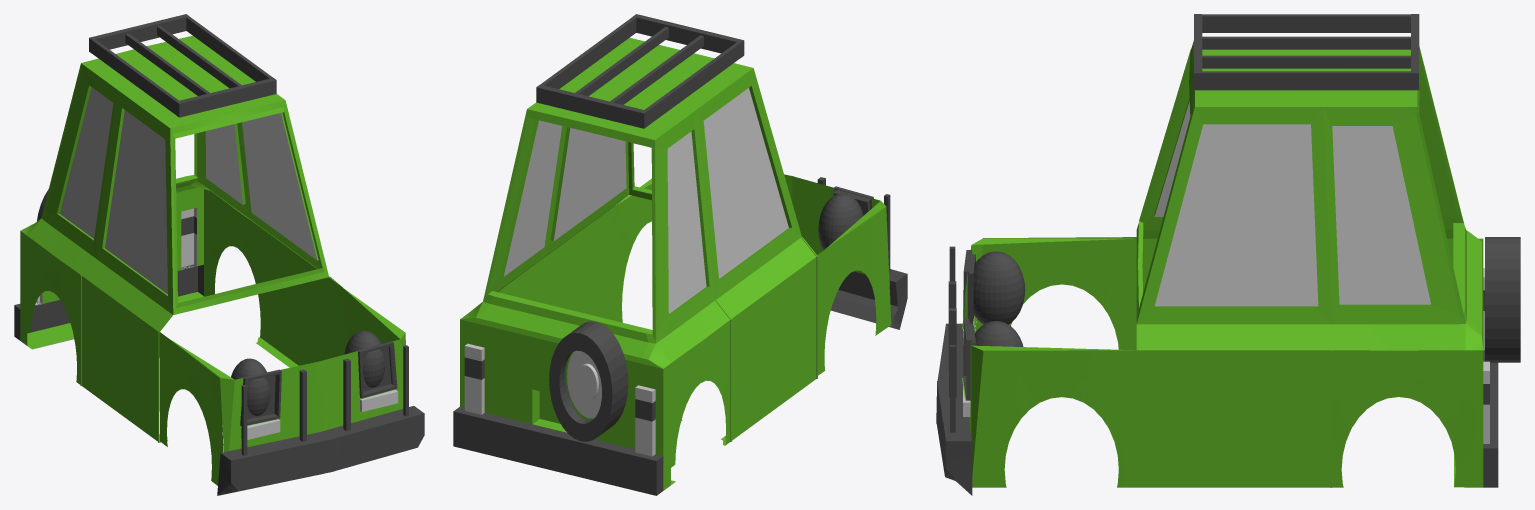
File: carrocuerpo.obj
3 renders of one model, left to right at view 1: azimuth 30°, elevation 25°; view 2: azimuth 150°, elevation 25°; view 3: azimuth 270°, elevation 25°, orthographic. The views are drawn at different scales.
Visible parts, largest first — view 1: Body_Cube, FrontLeftWindow_Cube.001, Cube.002_Cube.029, RoofRack.025_Cube.025, Cube.016_Cube.018, Cube.004, Cube.022_Cube.024, Sphere.001, Sphere, Cube.021_Cube.023, Cube.013_Cube.015, Cube.010_Cube.011 (+3 smaller); view 2: Body_Cube, FrontLeftWindow_Cube.001, RoofRack.025_Cube.025, Cube.016_Cube.018, Cube.022_Cube.024, Cylinder.007_Cylinder.010, Cube.002_Cube.029, Cylinder.008_Cylinder.011, Sphere.001, Cube.021_Cube.023, Cube.020_Cube.022, Cube.019_Cube.021; view 3: Body_Cube, FrontLeftWindow_Cube.001, RoofRack.025_Cube.025, Cube.016_Cube.018, Cylinder.007_Cylinder.010, Cube.002_Cube.029, Sphere.001, Cube.022_Cube.024, Cube.004, Sphere.
Boxes of the visible parts, box(x1,y1,x2,y2) form: Body_Cube: box(20, 35, 405, 485); FrontLeftWindow_Cube.001: box(105, 110, 317, 294); Cube.002_Cube.029: box(217, 406, 424, 495); RoofRack.025_Cube.025: box(89, 14, 276, 117); Cube.016_Cube.018: box(60, 87, 242, 238); Cube.004: box(240, 341, 397, 426); Cube.022_Cube.024: box(14, 264, 203, 340); Sphere.001: box(231, 358, 270, 415); Sphere: box(344, 330, 385, 387); Cube.021_Cube.023: box(35, 233, 196, 305); Cube.013_Cube.015: box(299, 369, 306, 441); Cube.010_Cube.011: box(343, 358, 350, 430); Body_Cube: box(460, 37, 891, 490); FrontLeftWindow_Cube.001: box(553, 88, 788, 278); RoofRack.025_Cube.025: box(536, 14, 744, 128); Cube.016_Cube.018: box(503, 120, 706, 313); Cube.022_Cube.024: box(453, 406, 663, 495); Cylinder.007_Cylinder.010: box(549, 321, 628, 441); Cube.002_Cube.029: box(831, 269, 907, 329); Cylinder.008_Cylinder.011: box(567, 350, 601, 418); Sphere.001: box(818, 193, 863, 250); Cube.021_Cube.023: box(464, 376, 655, 456); Cube.020_Cube.022: box(464, 357, 655, 421); Cube.019_Cube.021: box(464, 343, 655, 402); Body_Cube: box(962, 40, 1483, 487); FrontLeftWindow_Cube.001: box(1154, 101, 1318, 306); RoofRack.025_Cube.025: box(1194, 14, 1419, 90); Cube.016_Cube.018: box(1332, 126, 1430, 304); Cylinder.007_Cylinder.010: box(1485, 237, 1520, 362); Cube.002_Cube.029: box(936, 323, 972, 495); Sphere.001: box(973, 251, 1025, 324); Cube.022_Cube.024: box(1483, 350, 1498, 487); Cube.004: box(963, 250, 975, 400); Sphere: box(974, 321, 1023, 346).
Size of the model in its own units: 3.17 by 4.75 by 6.43.
Materials: 7 (3 with a texture image).
